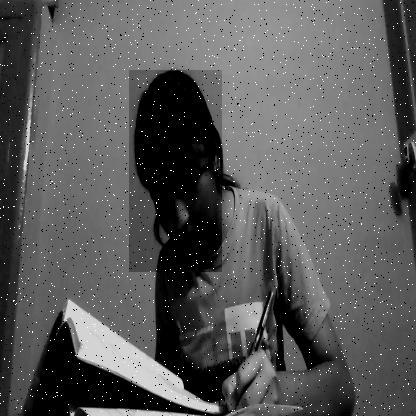Distracted: (129, 70, 222, 272)
